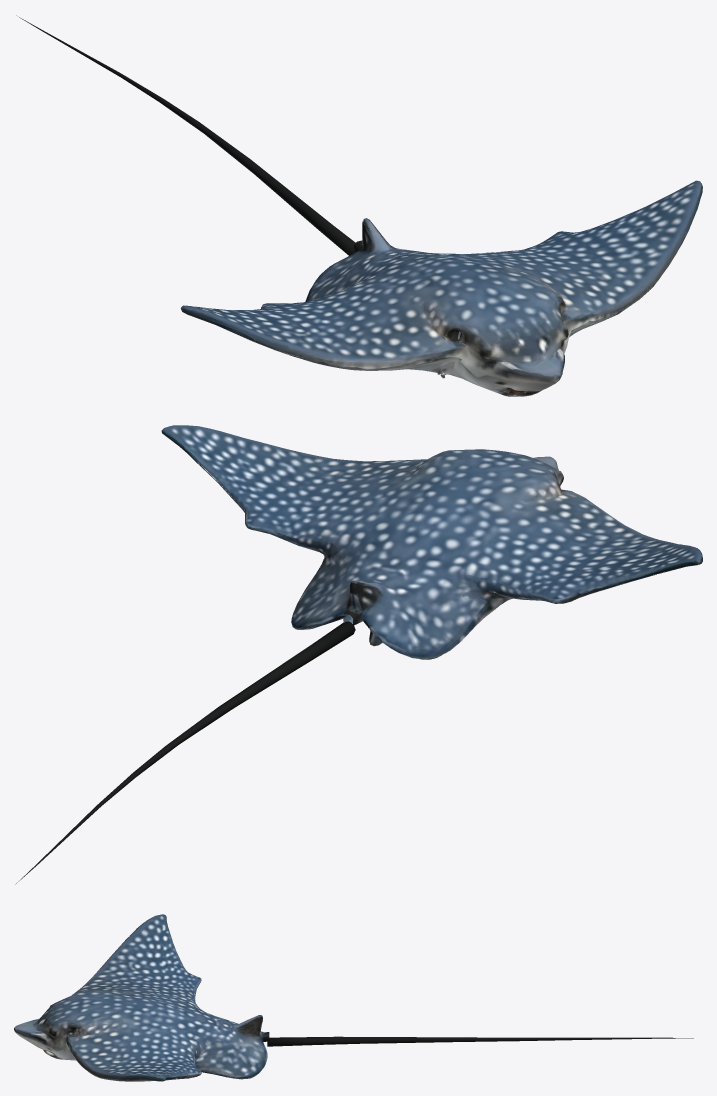
Rendered from spotted-eagle-ray.glb.
3 renders of one model, top to bottom at view 1: azimuth 30°, elevation 25°; view 2: azimuth 150°, elevation 25°; view 3: azimuth 270°, elevation 25°, orthographic. The views are drawn at different scales.
Parts seen in each view (by area): view 1: spotted-eagle-ray | Lux3D; view 2: spotted-eagle-ray | Lux3D; view 3: spotted-eagle-ray | Lux3D.
Boxes of the visible parts, x1=… form: spotted-eagle-ray | Lux3D: x1=16, y1=15, x2=702, y2=396; spotted-eagle-ray | Lux3D: x1=15, y1=425, x2=702, y2=884; spotted-eagle-ray | Lux3D: x1=14, y1=914, x2=693, y2=1081.
Size of the model in its own units: 1 by 0.1978 by 1.77.
Materials: 1 (1 with a texture image).
